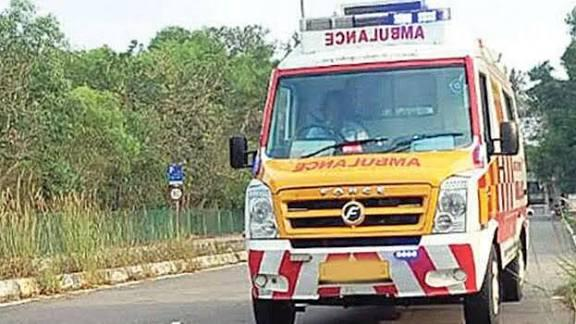ambulance: (222, 3, 529, 324)
